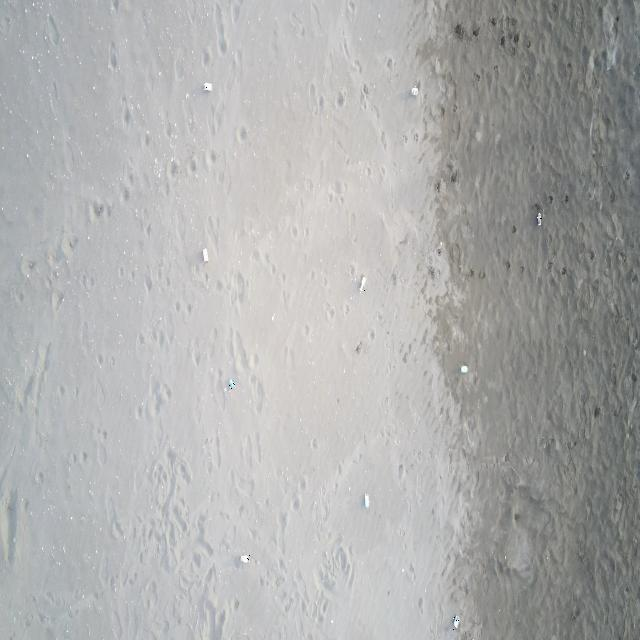tin-and-aluminum-cans: (359, 273, 367, 294), (203, 81, 214, 93), (452, 614, 460, 630), (203, 246, 209, 264), (364, 492, 370, 510), (228, 378, 237, 390), (460, 364, 468, 376), (411, 85, 418, 98), (240, 555, 250, 564), (536, 212, 542, 227)
